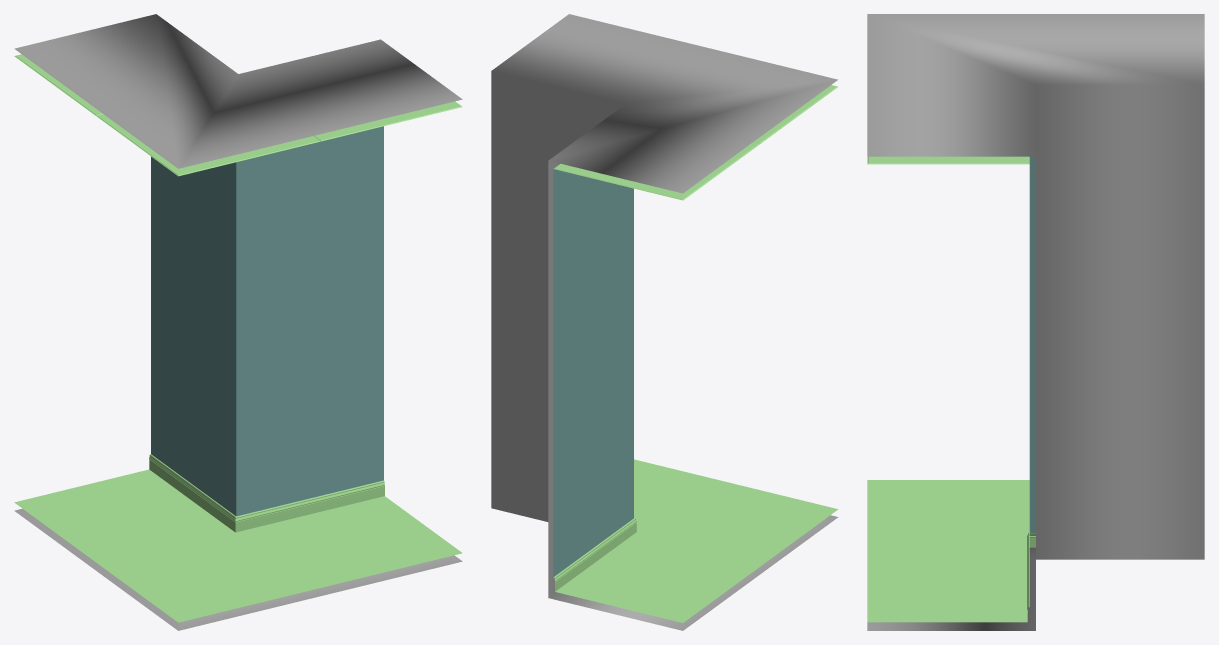
Rendered from Room_1x1_corner_out_geo.fbx.
3 renders of one model, left to right at view 1: azimuth 30°, elevation 25°; view 2: azimuth 150°, elevation 25°; view 3: azimuth 270°, elevation 25°, orthographic. The views are drawn at different scales.
Parts seen in each view (by area): view 1: Room_1x1_corner_out_geo; view 2: Room_1x1_corner_out_geo; view 3: Room_1x1_corner_out_geo.
Boxes of the visible parts, <box> form: Room_1x1_corner_out_geo: <box>14,14,462,630</box>; Room_1x1_corner_out_geo: <box>491,14,838,630</box>; Room_1x1_corner_out_geo: <box>867,14,1204,630</box>.
Size of the model in its own units: 2 by 3.1 by 2.
